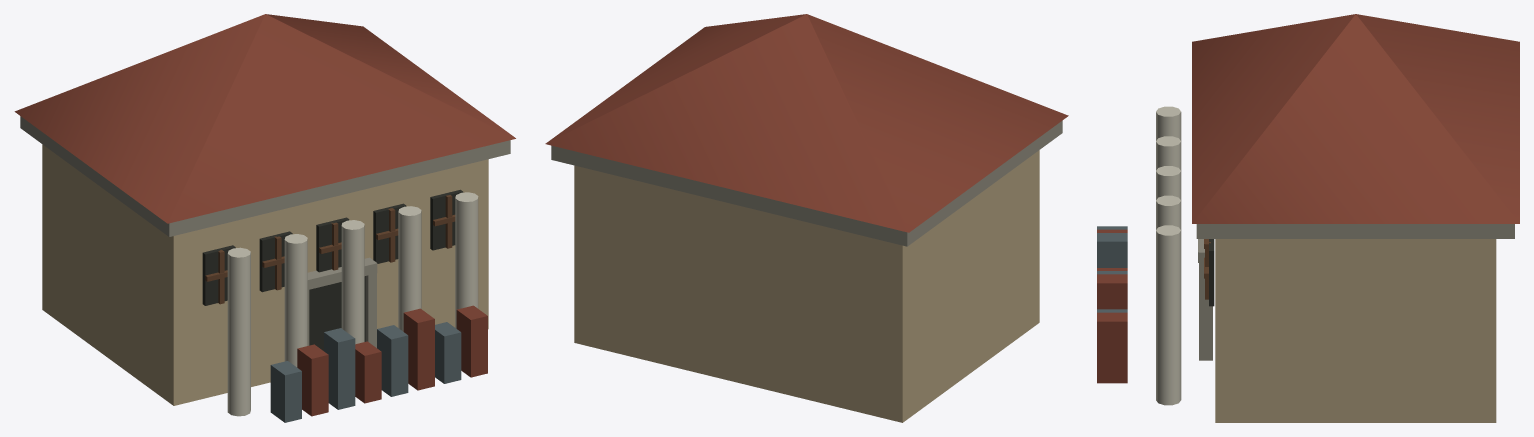
File: custom-cb-library.glb
3 views of the same model, side by side, from view 1: azimuth 30°, elevation 25°; view 2: azimuth 150°, elevation 25°; view 3: azimuth 270°, elevation 25° (orthographic). The views are drawn at different scales.
Parts seen in each view (by area): view 1: custom-cb-library; view 2: custom-cb-library; view 3: custom-cb-library.
Part boxes in pixels (x1=…): custom-cb-library: x1=14, y1=14, x2=515, y2=422; custom-cb-library: x1=545, y1=14, x2=1068, y2=422; custom-cb-library: x1=1097, y1=14, x2=1519, y2=422.
Size of the model in its own units: 1 by 0.8368 by 0.9809.
